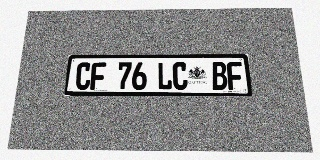6: (132, 62, 147, 90)
7: (116, 62, 132, 90)
B: (211, 62, 228, 90)
C: (75, 62, 91, 90), (172, 62, 188, 90)
F: (226, 62, 244, 90), (90, 62, 106, 90)
L: (157, 62, 172, 90)
